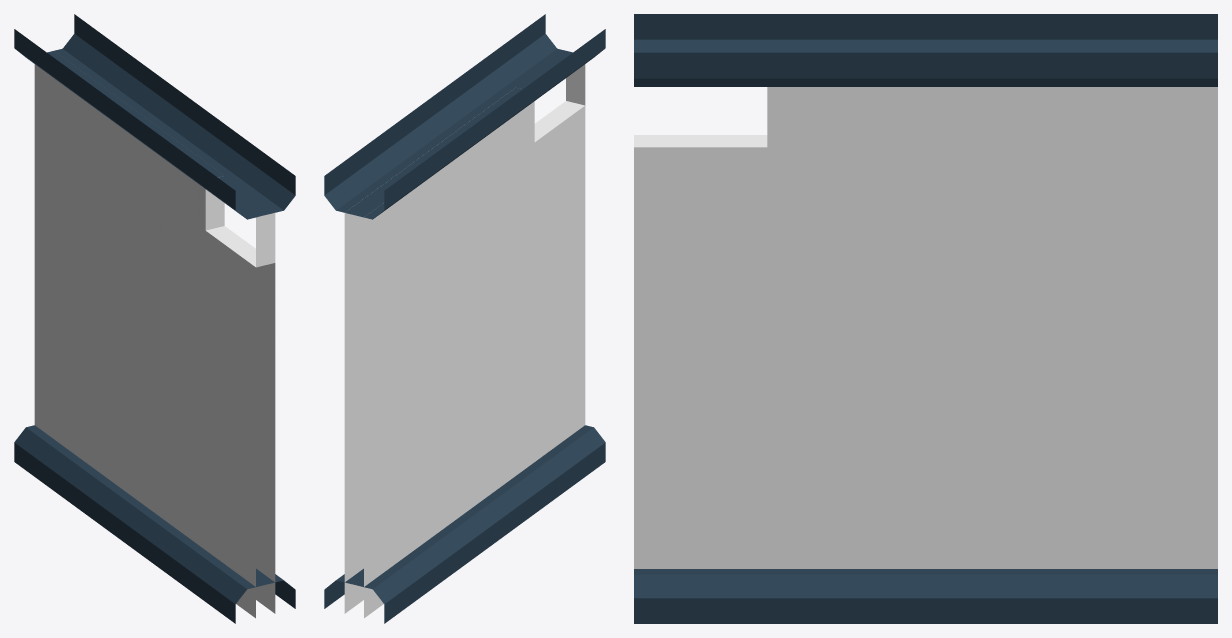
File: SM_WallModule&Hole.fbx
3 views of the same model, side by side, from view 1: azimuth 30°, elevation 25°; view 2: azimuth 150°, elevation 25°; view 3: azimuth 270°, elevation 25° (orthographic). The views are drawn at different scales.
Parts seen in each view (by area): view 1: Cube.002; view 2: Cube.002; view 3: Cube.002.
Part boxes in pixels (x1,y1,x2,y2): Cube.002: (14, 14, 295, 623); Cube.002: (324, 14, 605, 623); Cube.002: (634, 14, 1217, 623).
Bounding box in the file's own units: 200 × 31.37 × 216.
